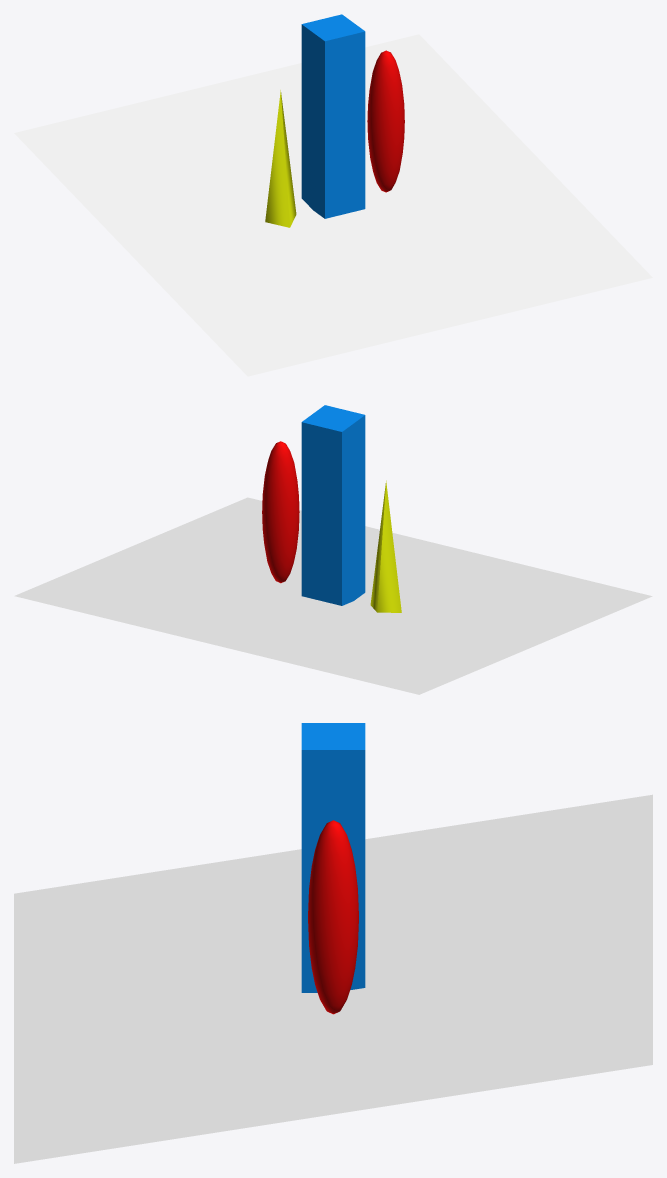
The picture shows the model from 3 angles, top to bottom: view 1: azimuth 30°, elevation 25°; view 2: azimuth 150°, elevation 25°; view 3: azimuth 270°, elevation 25°; orthographic projection. The views are drawn at different scales.
Parts seen in each view (by area): view 1: node_id7, node_id10, node_id16, node_id13; view 2: node_id7, node_id10, node_id16, node_id13; view 3: node_id7, node_id10, node_id16.
Boxes of the visible parts, x1,y1,x2,y2 form: node_id7: (14, 34, 652, 376); node_id10: (301, 14, 365, 218); node_id16: (367, 50, 404, 192); node_id13: (265, 90, 296, 227); node_id7: (14, 497, 652, 694); node_id10: (301, 405, 365, 605); node_id16: (262, 441, 299, 583); node_id13: (370, 480, 401, 612); node_id7: (14, 794, 652, 1163); node_id10: (301, 723, 365, 992); node_id16: (308, 820, 358, 1014).
Bounding box in the file's own units: 0.512 × 0.2582 × 0.5116.
4 materials, 4 textured.
